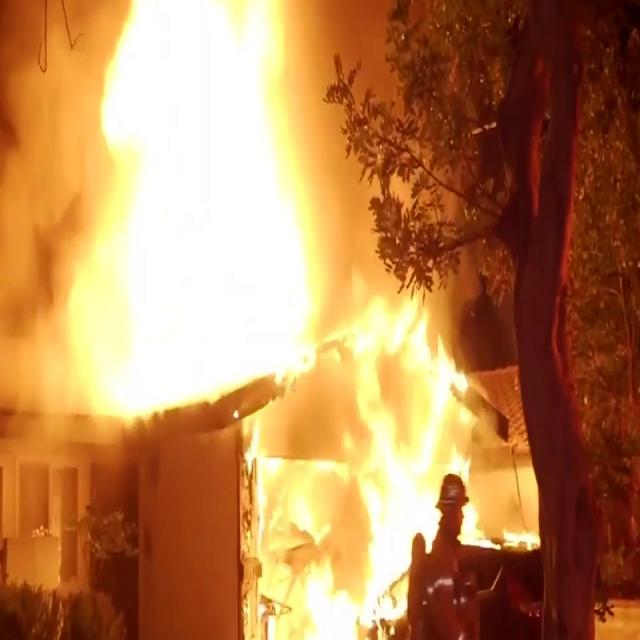fire: (66, 0, 329, 398), (249, 417, 353, 640), (324, 311, 424, 529)
smoke: (0, 0, 54, 380)
